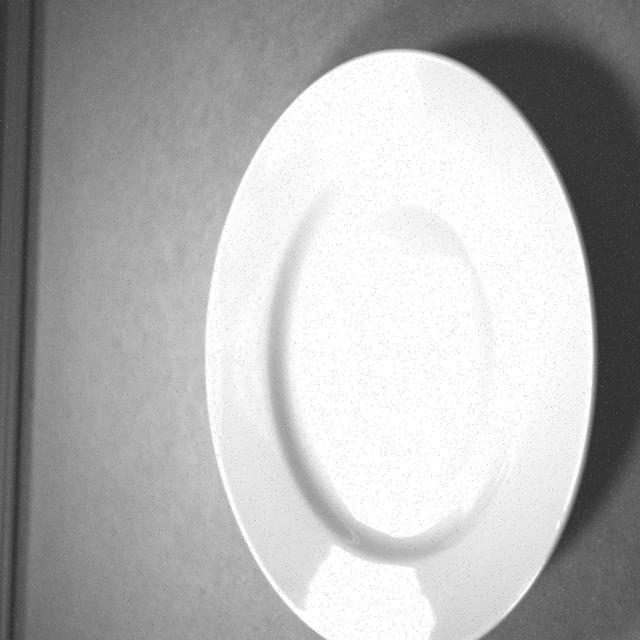plate: (208, 51, 594, 640)
